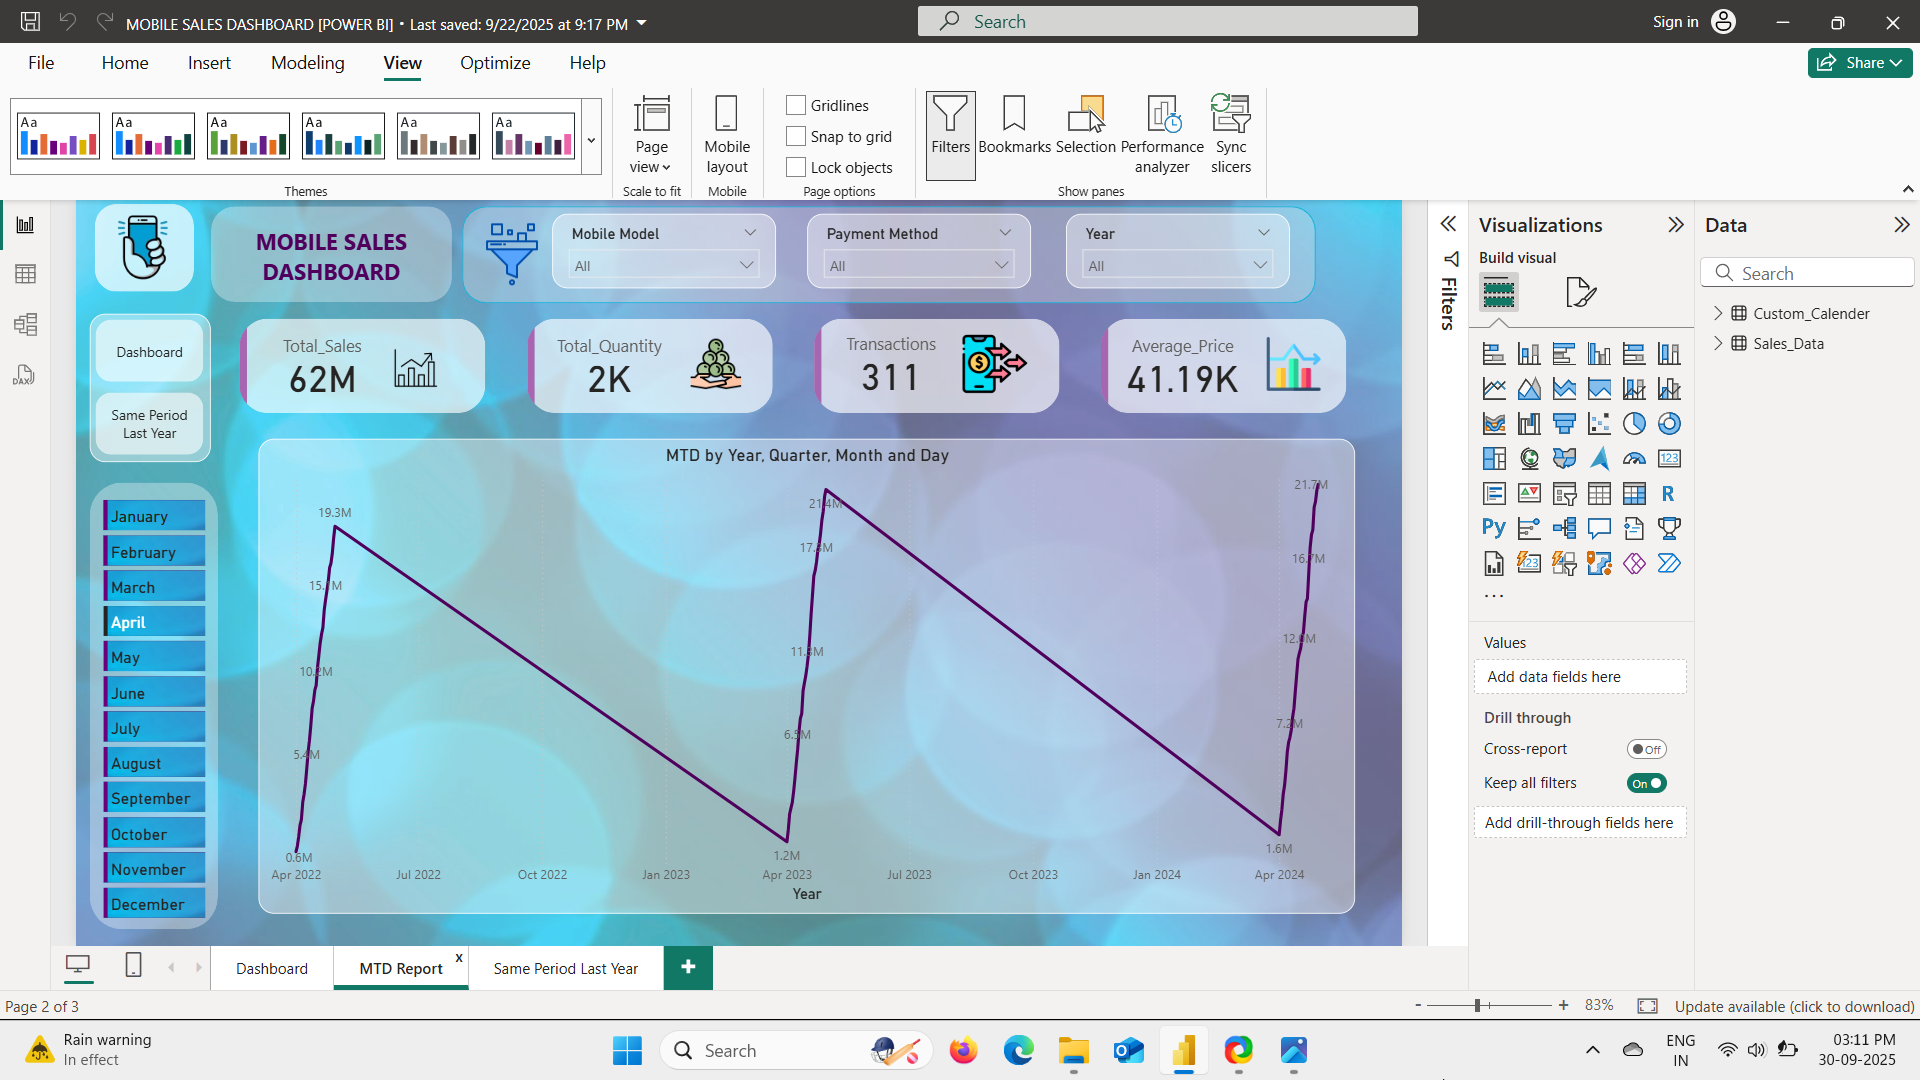

This screenshot's page, from the dashboard's own definition file:
{"tool":"powerbi","page":{"name":"MTD Report","canvas":[1280,720],"ordinal":1},"visuals":[{"type":"shape","box":[372.5,6.2,823.8,93.8],"z":0},{"type":"slicer","fields":{"Values":["Sales_Data.Mobile Model"]},"box":[460,13.3,216,72],"z":1000},{"type":"slicer","fields":{"Values":["Sales_Data.Payment Method"]},"box":[705.3,13.3,216,72],"z":2000},{"type":"slicer","fields":{"Values":["Custom_Calender.Date.Variation.Date Hierarchy.Year"]},"box":[956,13.3,216,72],"z":3000},{"type":"shape","box":[130,6.2,232.5,92.5],"z":4000},{"type":"textbox","box":[130,20,232.5,68.8],"z":5000},{"type":"lineChart","fields":{"Y":["Sales_Data.MTD"],"Category":["Custom_Calender.Date.Variation.Date Hierarchy.Year","Custom_Calender.Date.Variation.Date Hierarchy.Quarter","Custom_Calender.Date.Variation.Date Hierarchy.Month","Custom_Calender.Date.Variation.Date Hierarchy.Day"]},"box":[175.7,230,1058.6,458.6],"z":6000},{"type":"shape","box":[13.8,272.5,123.8,431.2],"z":7000},{"type":"advancedSlicerVisual","fields":{"Values":["Custom_Calender.Date.Variation.Date Hierarchy.Month"]},"box":[21.2,285,108.8,418.8],"z":8000},{"type":"pageNavigator","box":[12.8,110.3,116.7,143.6],"z":9000},{"type":"cardVisual","fields":{"Data":["Sales_Data.Total_Sales","Sales_Data.Total_Quantity","Sales_Data.Transactions","Sales_Data.Average_Price"]},"box":[153.3,110,1080,101.7],"z":10000},{"type":"shape","box":[18.3,4.2,95.8,85],"z":11000},{"type":"image","box":[10,0,110,91.4],"z":12000},{"type":"image","box":[381.4,17.1,78.6,71.4],"z":13000}]}

Visuals, with their boxes on the page's 1280x720 design canvas (x1, y1, x2, y2). These are canvas units, not pixel positions in the 1920x1080 screenshot, which may show the page scaled, cropped or inside an application window:
shape: box(372, 6, 1196, 100)
slicer - Sales_Data.Mobile Model: box(460, 13, 676, 85)
slicer - Sales_Data.Payment Method: box(705, 13, 921, 85)
slicer - Custom_Calender.Date.Variation.Date Hierarchy.Year: box(956, 13, 1172, 85)
shape: box(130, 6, 362, 99)
textbox: box(130, 20, 362, 89)
lineChart - Sales_Data.MTD x Custom_Calender.Date.Variation.Date Hierarchy.Year: box(176, 230, 1234, 689)
shape: box(14, 272, 138, 704)
advancedSlicerVisual - Custom_Calender.Date.Variation.Date Hierarchy.Month: box(21, 285, 130, 704)
pageNavigator: box(13, 110, 130, 254)
cardVisual - Sales_Data.Total_Sales x Sales_Data.Total_Quantity: box(153, 110, 1233, 212)
shape: box(18, 4, 114, 89)
image: box(10, 0, 120, 91)
image: box(381, 17, 460, 88)
